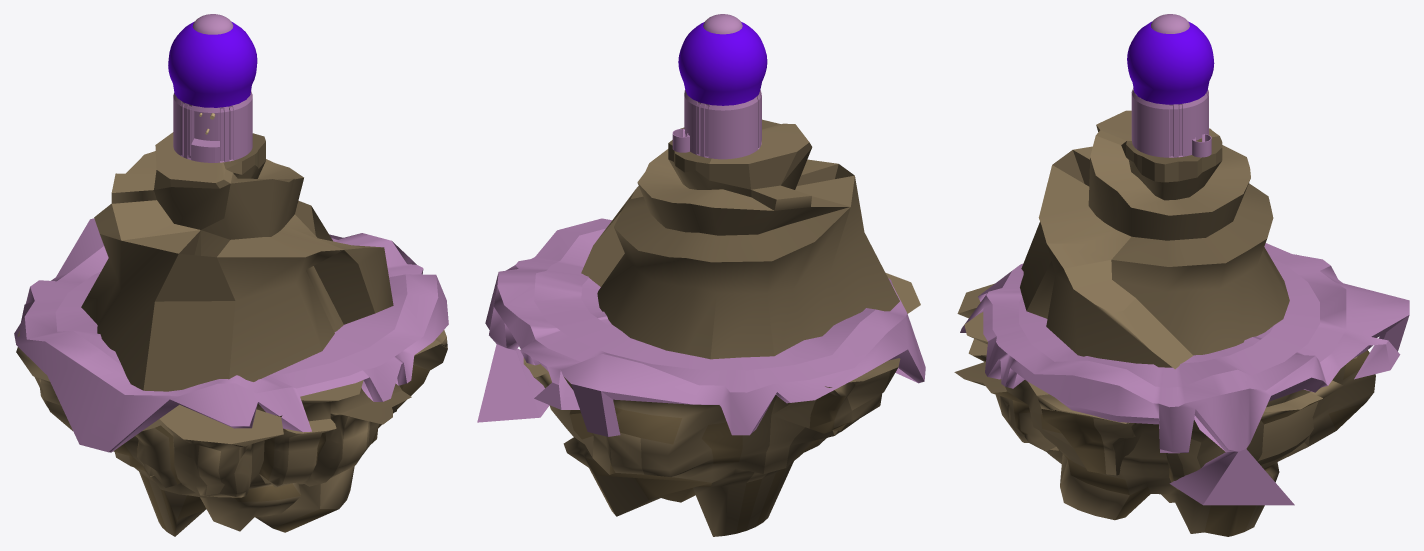
The model's file is 3D GAME 1.fbx.
3 views of the same model, side by side, from view 1: azimuth 30°, elevation 25°; view 2: azimuth 150°, elevation 25°; view 3: azimuth 270°, elevation 25° (orthographic). The views are drawn at different scales.
Visible parts, largest first — view 1: d:pCylinder1, pSphere1, pCylinder1, D_GAME:pSphere1; view 2: d:pCylinder1, pSphere1, pCylinder1, D_GAME:pSphere1; view 3: d:pCylinder1, pSphere1, pCylinder1, D_GAME:pSphere1.
Boxes of the visible parts, left/top/right/bottom form: d:pCylinder1: left=81, top=132, right=393, bottom=391; pSphere1: left=14, top=218, right=448, bottom=452; pCylinder1: left=16, top=330, right=447, bottom=536; D_GAME:pSphere1: left=168, top=14, right=257, bottom=162; d:pCylinder1: left=581, top=119, right=899, bottom=359; pSphere1: left=477, top=218, right=925, bottom=436; pCylinder1: left=523, top=272, right=920, bottom=536; D_GAME:pSphere1: left=672, top=14, right=767, bottom=159; d:pCylinder1: left=1020, top=110, right=1289, bottom=369; pSphere1: left=960, top=243, right=1409, bottom=505; pCylinder1: left=954, top=283, right=1375, bottom=536; D_GAME:pSphere1: left=1127, top=14, right=1214, bottom=157.
Size of the model in its own units: 31.69 by 38.95 by 32.89.
